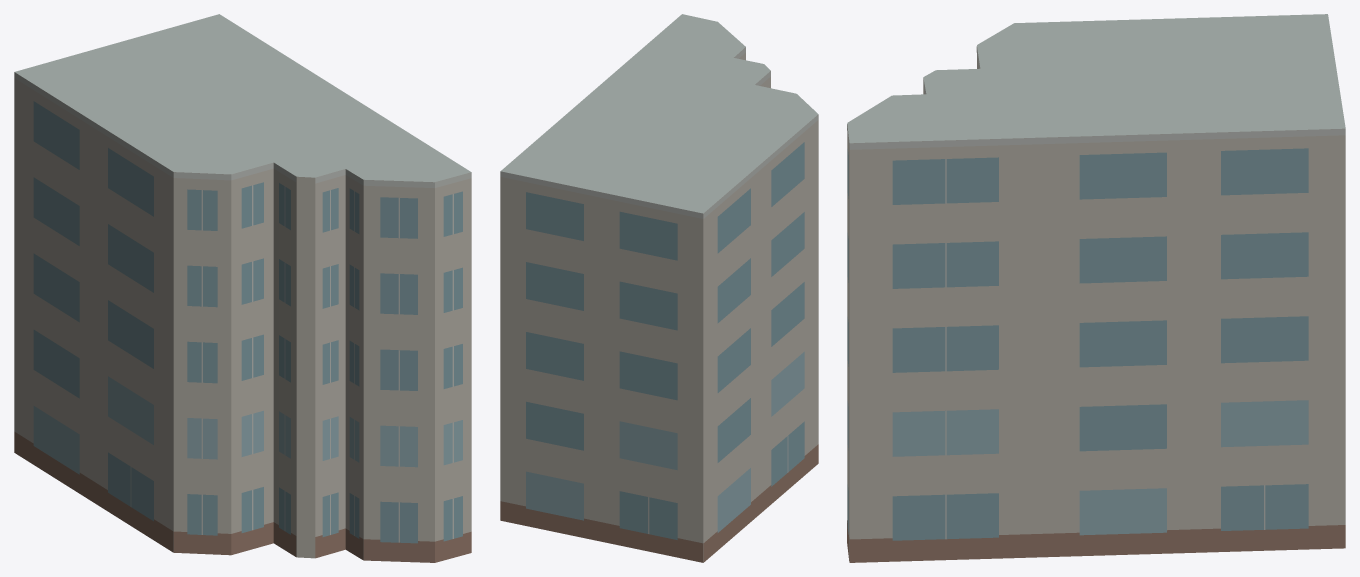
File: survey-upis-32531214.glb
3 renders of one model, left to right at view 1: azimuth 30°, elevation 25°; view 2: azimuth 150°, elevation 25°; view 3: azimuth 270°, elevation 25°, orthographic. The views are drawn at different scales.
Visible parts, largest first — view 1: survey-upis-32531214.tmp; view 2: survey-upis-32531214.tmp; view 3: survey-upis-32531214.tmp.
Boxes of the visible parts, x1,y1,x2,y2 form: survey-upis-32531214.tmp: [14, 14, 471, 562]; survey-upis-32531214.tmp: [500, 14, 818, 562]; survey-upis-32531214.tmp: [847, 14, 1345, 562].
Size of the model in its own units: 10.25 by 15.5 by 16.7.
